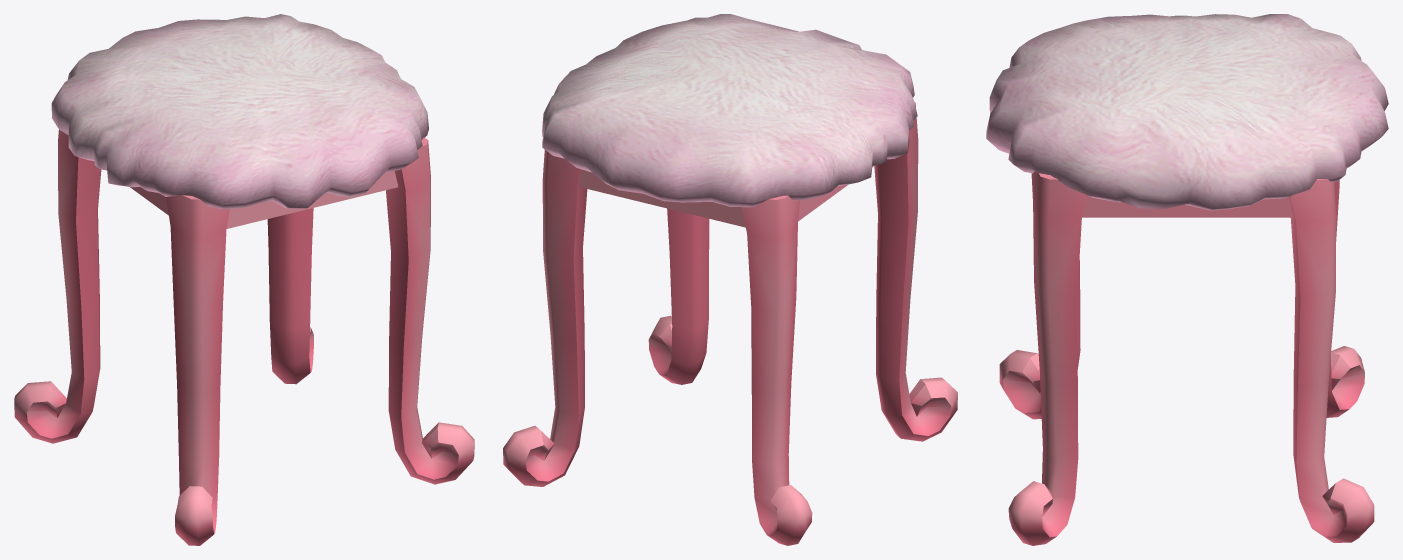
Rendered from Doll_OB_Vanity_Chair_001.FBX.
The picture shows the model from 3 angles, left to right: view 1: azimuth 30°, elevation 25°; view 2: azimuth 150°, elevation 25°; view 3: azimuth 270°, elevation 25°; orthographic projection. The views are drawn at different scales.
Parts seen in each view (by area): view 1: Doll_OB_Vanity_Chair_001; view 2: Doll_OB_Vanity_Chair_001; view 3: Doll_OB_Vanity_Chair_001.
Part boxes in pixels (bbox=[...]): Doll_OB_Vanity_Chair_001: bbox=[14, 14, 474, 545]; Doll_OB_Vanity_Chair_001: bbox=[503, 14, 957, 545]; Doll_OB_Vanity_Chair_001: bbox=[986, 14, 1388, 545].
Bounding box in the file's own units: 26.35 × 31.06 × 27.53.
